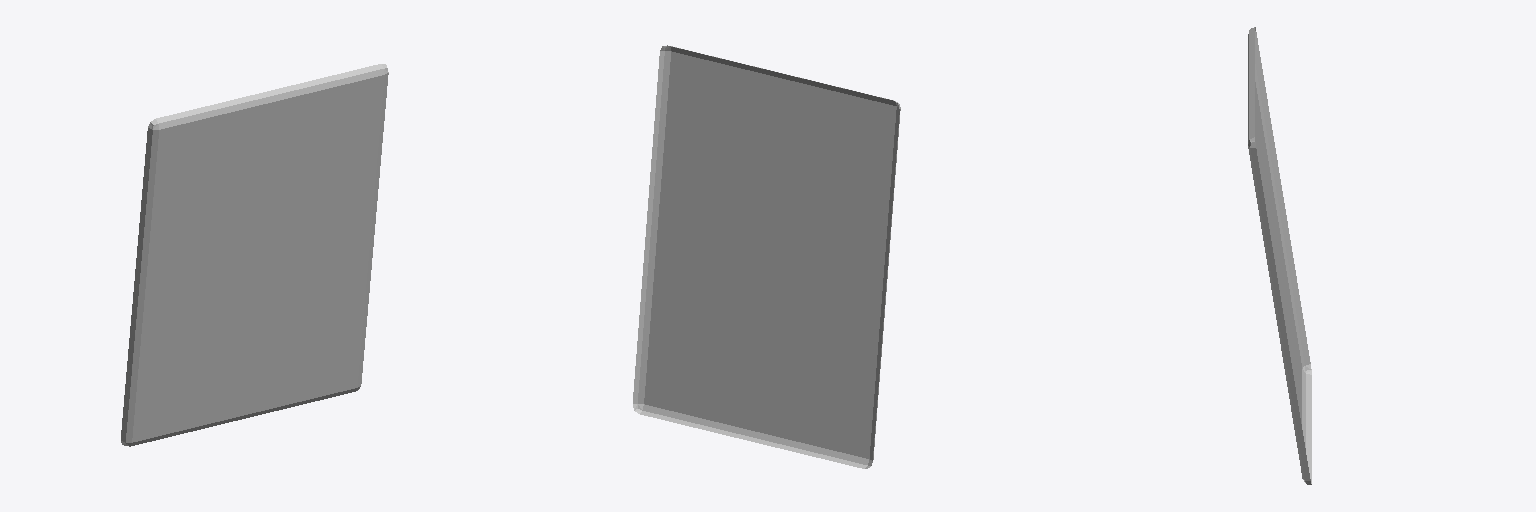
File: Isi figura.obj
3 renders of one model, left to right at view 1: azimuth 30°, elevation 25°; view 2: azimuth 150°, elevation 25°; view 3: azimuth 270°, elevation 25°, orthographic.
Parts seen in each view (by area): view 1: polySurface48 frame_foto; view 2: polySurface48 frame_foto; view 3: polySurface48 frame_foto.
Part boxes in pixels (bbox=[...]): polySurface48 frame_foto: bbox=[121, 64, 388, 446]; polySurface48 frame_foto: bbox=[633, 45, 900, 468]; polySurface48 frame_foto: bbox=[1248, 27, 1311, 484].
Bounding box in the file's own units: 0.3976 × 0.5509 × 0.092.